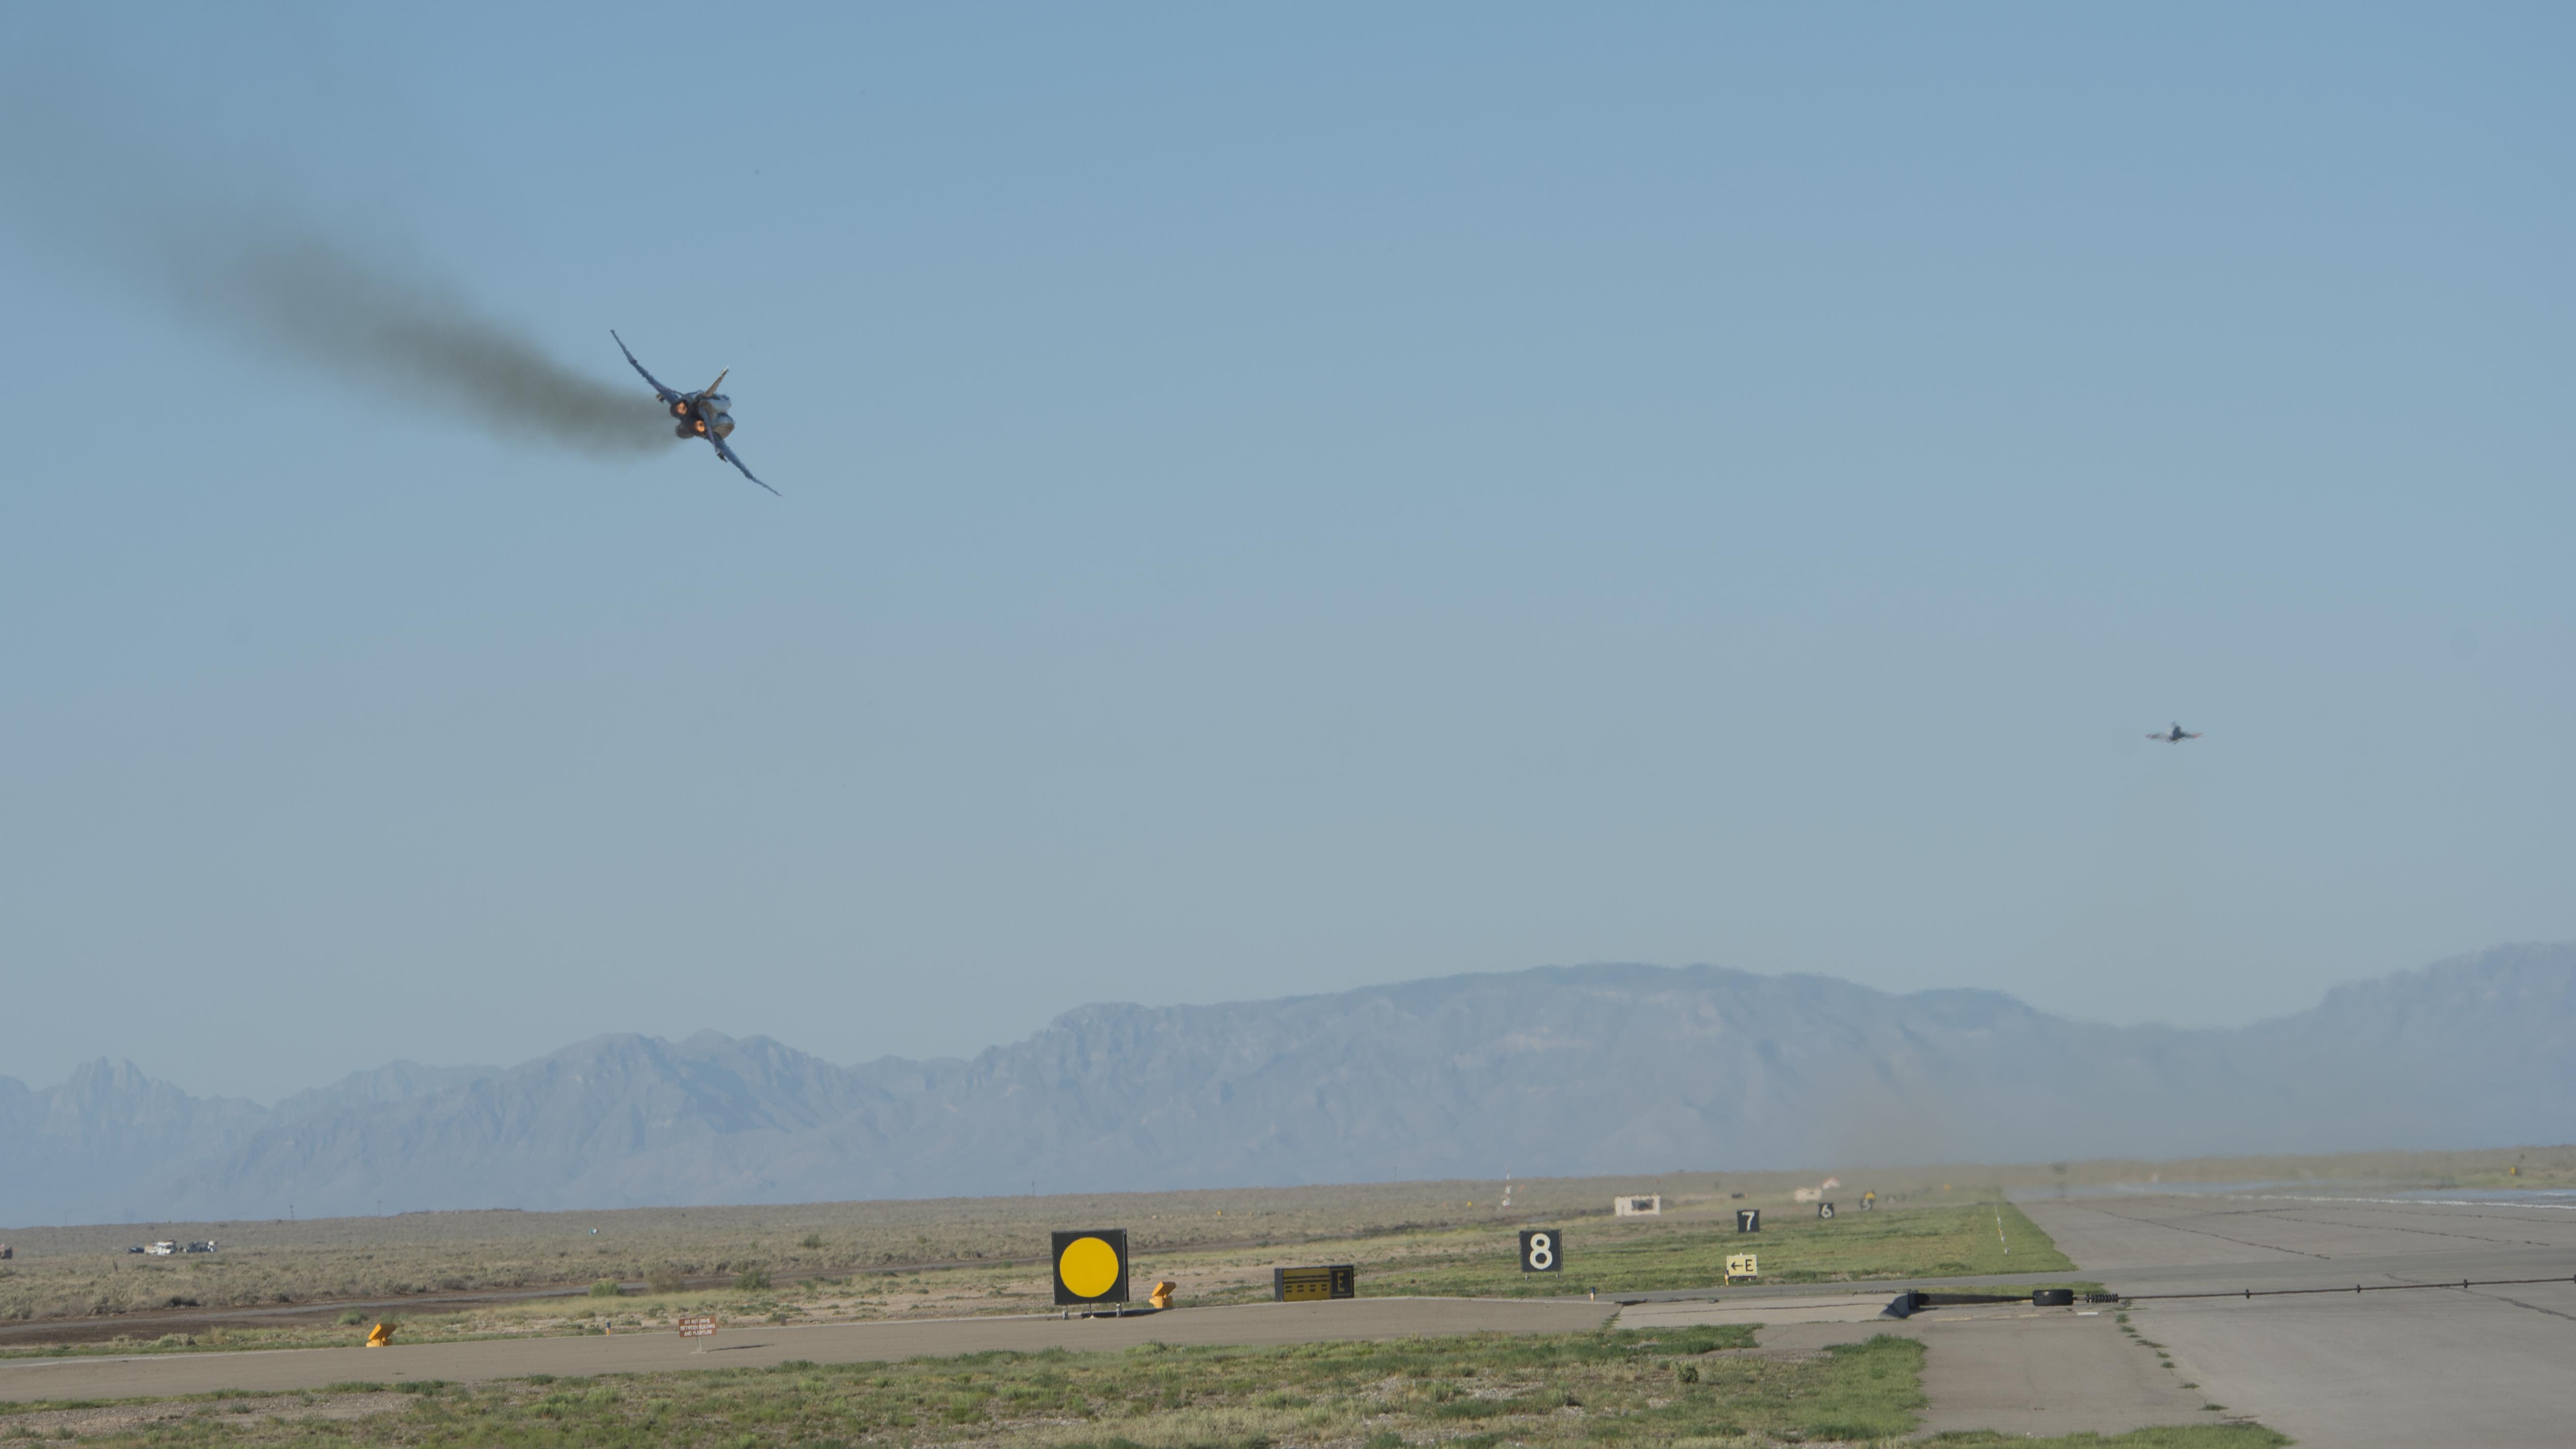F4: (609, 329, 784, 497), (2143, 720, 2204, 745)
